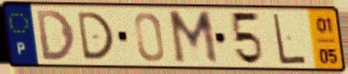0: (132, 11, 167, 63)
5: (226, 9, 265, 67)
D: (34, 9, 78, 63), (74, 10, 116, 62)
L: (271, 12, 309, 67)
M: (166, 9, 221, 67)
